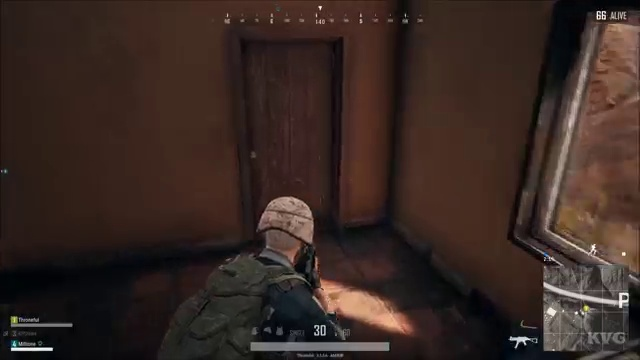Player: (163, 181, 408, 315)
